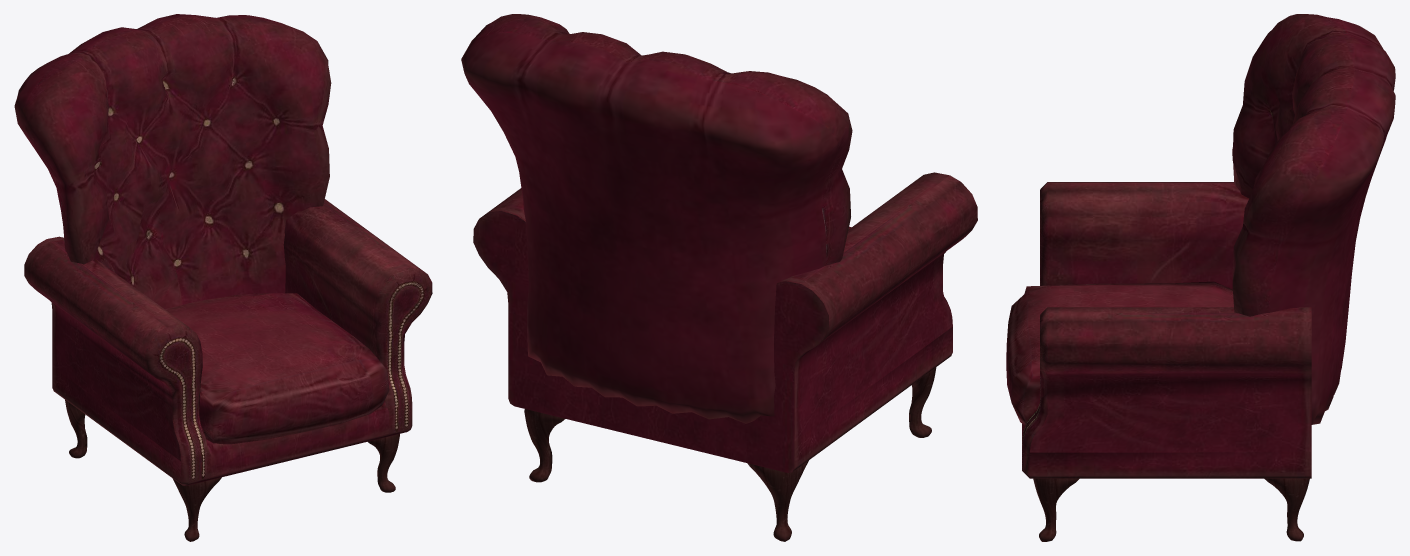
File: armchair.glb
The picture shows the model from 3 angles, left to right: view 1: azimuth 30°, elevation 25°; view 2: azimuth 150°, elevation 25°; view 3: azimuth 270°, elevation 25°; orthographic projection. The views are drawn at different scales.
Parts seen in each view (by area): view 1: Armrests_low_M_PROPS2_0; view 2: Armrests_low_M_PROPS2_0; view 3: Armrests_low_M_PROPS2_0.
Boxes of the visible parts, x1,y1,x2,y2 form: Armrests_low_M_PROPS2_0: (14,14,432,541); Armrests_low_M_PROPS2_0: (461,14,977,541); Armrests_low_M_PROPS2_0: (1006,14,1395,541).
Bounding box in the file's own units: 0.83 × 1.05 × 0.8689.
Materials: 1 (1 with a texture image).
